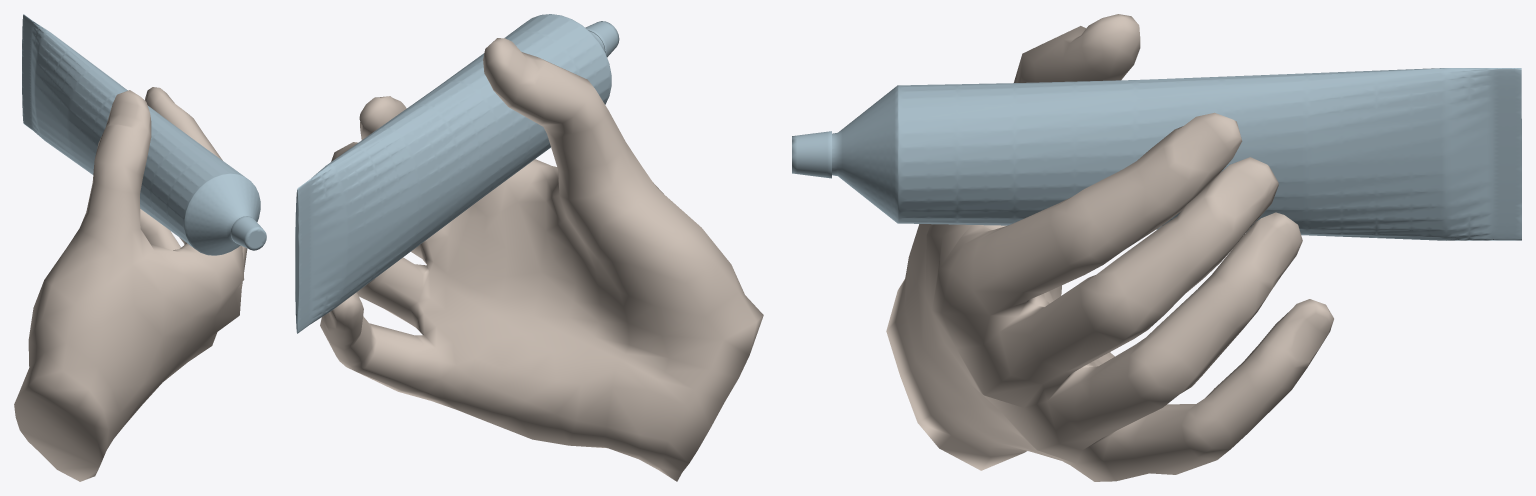
File: grasp_0.glb
3 views of the same model, side by side, from view 1: azimuth 30°, elevation 25°; view 2: azimuth 150°, elevation 25°; view 3: azimuth 270°, elevation 25° (orthographic). The views are drawn at different scales.
Bounding box in the file's own units: 0.1342 × 0.1607 × 0.202.
